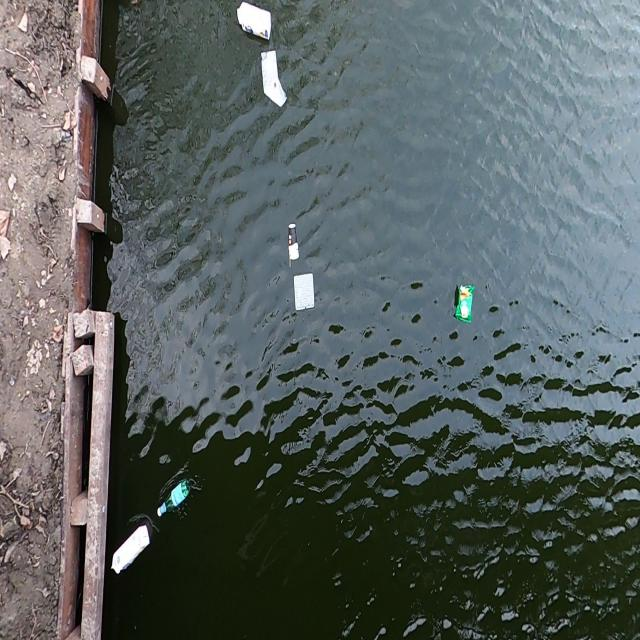Autre plastique: (451, 281, 477, 326)
Bouteille plastique: (154, 475, 193, 526)
Non plastique: (108, 524, 151, 580), (232, 1, 276, 42), (282, 219, 302, 265)
